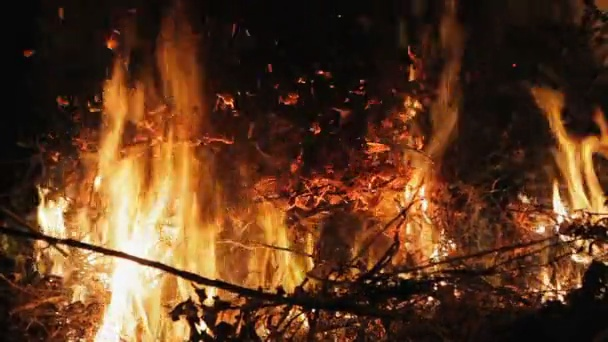fire: (89, 62, 213, 341), (518, 93, 608, 301), (256, 205, 296, 290), (36, 197, 67, 236), (402, 177, 428, 209)
